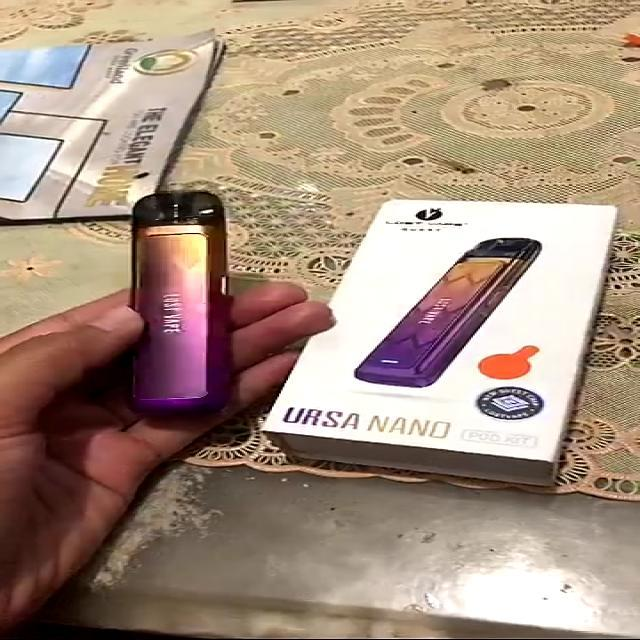Hazard: (354, 238, 540, 389), (124, 188, 237, 424)
